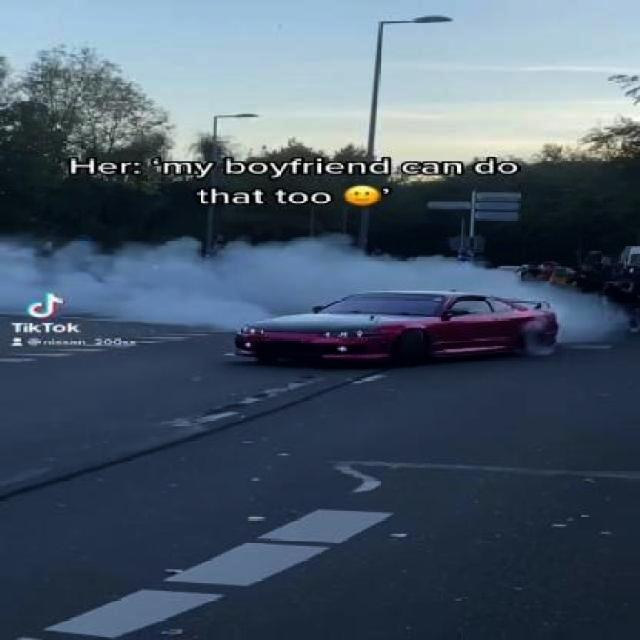car: (229, 288, 568, 370)
